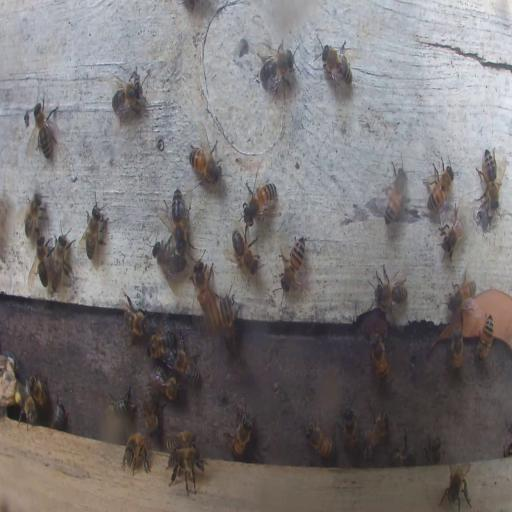nonpollenbee: (80, 191, 108, 264), (256, 42, 296, 93), (476, 147, 504, 215), (28, 95, 58, 158), (319, 40, 353, 94), (193, 254, 217, 328), (242, 175, 277, 225), (110, 71, 144, 122), (169, 446, 203, 497), (382, 160, 408, 226), (439, 460, 472, 511), (424, 160, 454, 216), (373, 265, 407, 313), (224, 406, 254, 460), (280, 235, 307, 291), (361, 407, 388, 458), (189, 144, 222, 185), (438, 211, 465, 261), (230, 227, 258, 275), (219, 288, 239, 354), (50, 228, 72, 287), (122, 431, 151, 474), (152, 236, 180, 280), (164, 191, 188, 242), (121, 294, 147, 337), (173, 344, 200, 384), (306, 422, 334, 460), (31, 235, 52, 285), (450, 274, 476, 313), (151, 369, 180, 403), (369, 334, 388, 384), (446, 324, 464, 376), (166, 428, 199, 456), (25, 190, 45, 236), (109, 384, 136, 418), (147, 328, 175, 359), (476, 315, 494, 363), (143, 383, 159, 435), (388, 438, 417, 466), (28, 375, 48, 413), (342, 408, 358, 453), (426, 436, 442, 464), (53, 401, 67, 429)
pollenbee: (16, 379, 34, 424)
